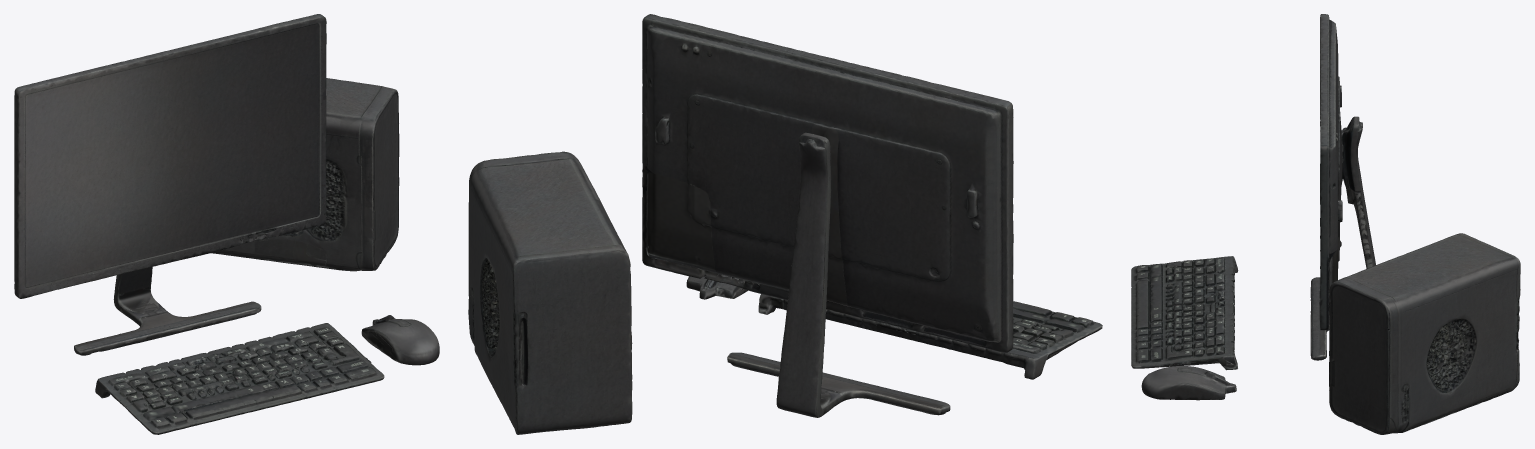
File: DeskComputer.glb
3 renders of one model, left to right at view 1: azimuth 30°, elevation 25°; view 2: azimuth 150°, elevation 25°; view 3: azimuth 270°, elevation 25°, orthographic. The views are drawn at different scales.
Visible parts, largest first — view 1: texture_mapping; view 2: texture_mapping; view 3: texture_mapping.
Boxes of the visible parts, box(x1,y1,x2,y2) form: texture_mapping: box(14, 14, 439, 434); texture_mapping: box(468, 14, 1102, 434); texture_mapping: box(1131, 14, 1520, 434).
Size of the model in its own units: 1 by 0.6331 by 0.9075.
Materials: 1 (1 with a texture image).
